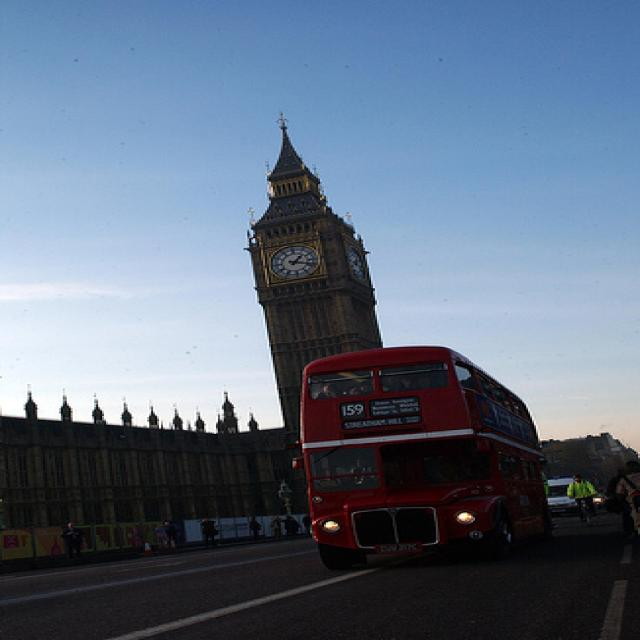Bus: (274, 337, 568, 577)
People: (615, 452, 640, 546), (562, 468, 594, 530), (56, 516, 97, 558), (156, 519, 191, 559), (199, 512, 227, 553)
car: (537, 461, 587, 515)
